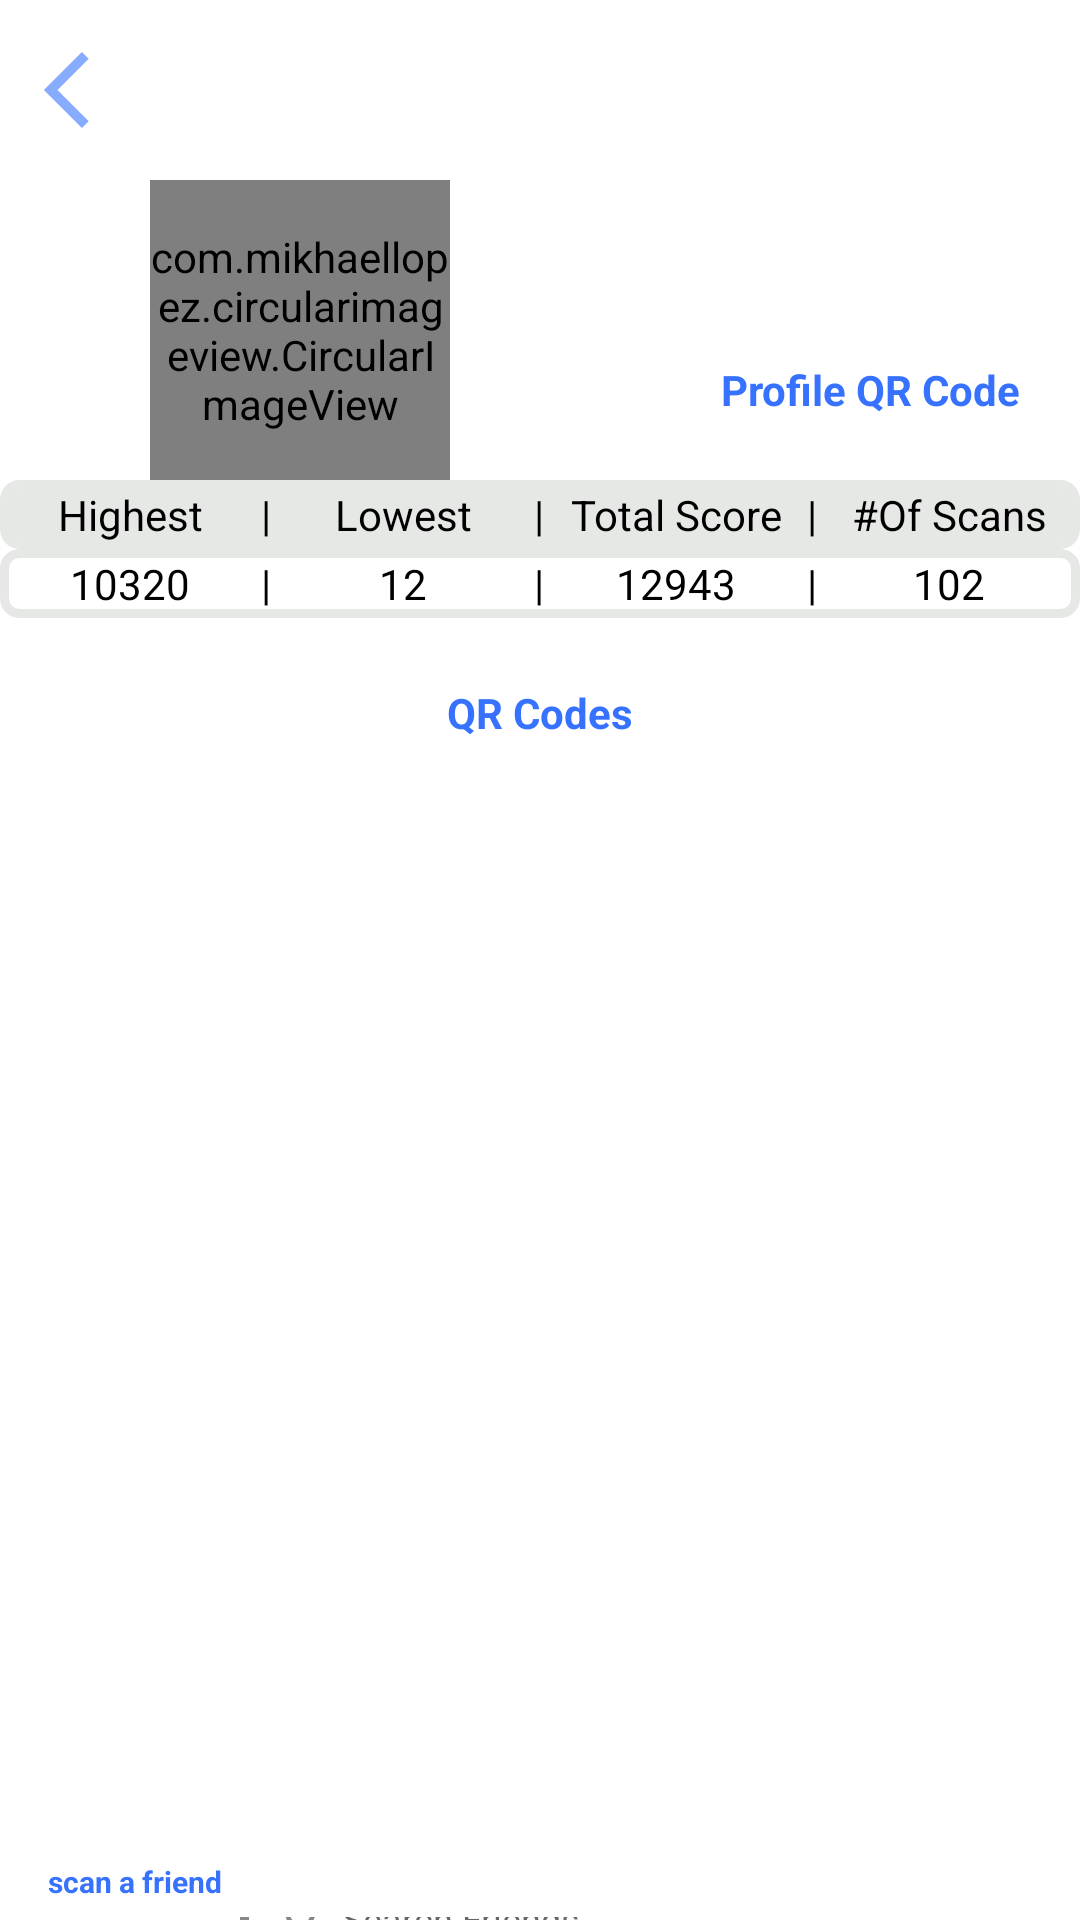

Point at icon controls on the screen. Image size 1080 x 1920, points as (x,y).
backbtn: (66,90)
